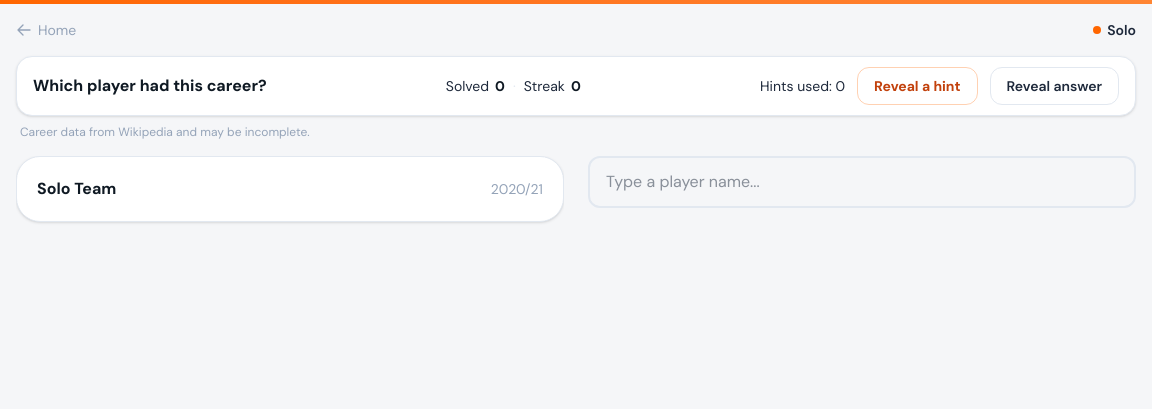
Scenario: CareerQuizBoard multiplayer reveals › reveals solo hints progressively and stops at the hidden-letter cap
Expected: the text "Hints used: 0" is shown, [760,76,845,96]
Click the button "Reveal a hint": x=917, y=86 [857,67,978,105]
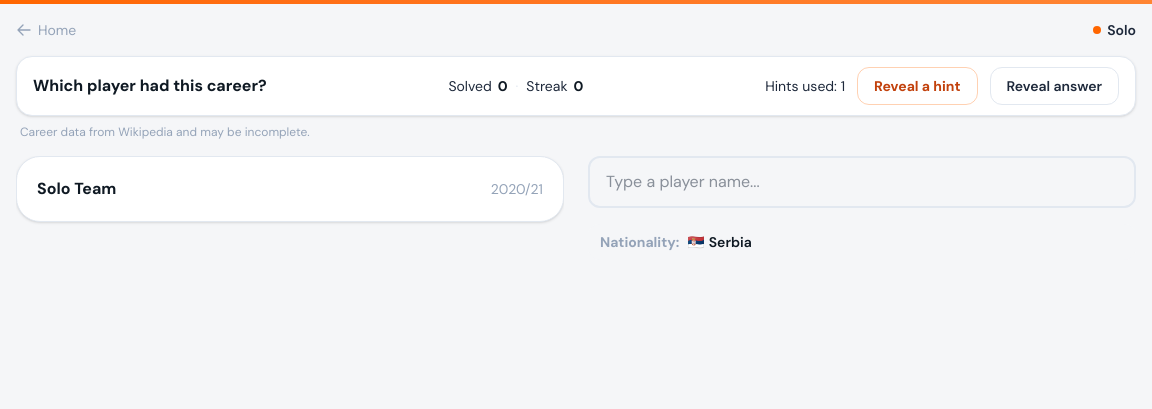
Now the text "Serbia" is shown, box [709,232,752,252]
Now the text "Hints used: 1" is shown, box [765,76,845,96]
Click the button "Reveal a hint": x=917, y=86 [857,67,978,105]
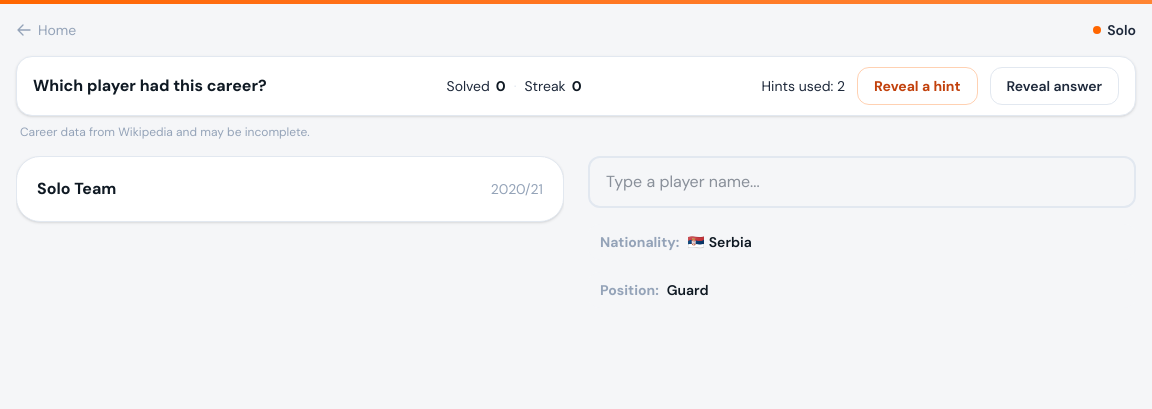
Now the text "Guard" is shown, box [667,280,708,300]
Now the text "Hints used: 2" is shown, box [762,76,845,96]
Click the button "Reveal a hint": x=917, y=86 [857,67,978,105]
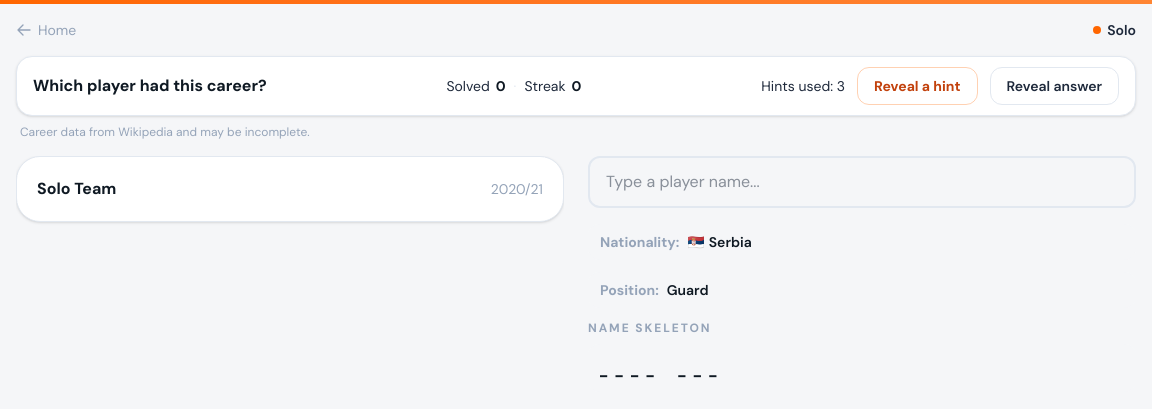
Now the element with test id "career-hint-masked-name" reads "_ _ _ _ _ _ _", box [588,344,1136,392]
Now the text "Hints used: 3" is shown, box [761,76,845,96]
Click the button "Reveal a hint": x=917, y=86 [857,67,978,105]
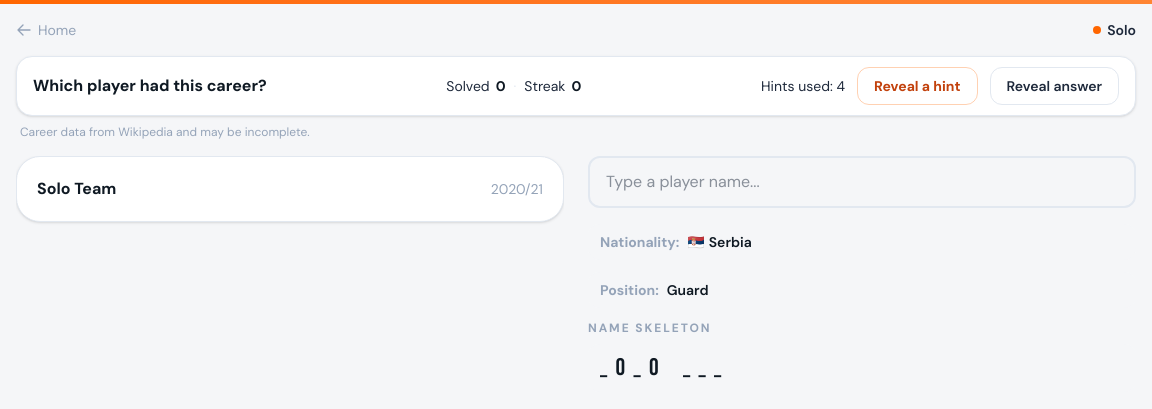
Now the element with test id "career-hint-masked-name" reads "_ O _ O _ _ _", box [588,344,1136,392]
Now the text "Hints used: 4" is shown, box [761,76,845,96]
Click the button "Reveal a hint": x=917, y=86 [857,67,978,105]
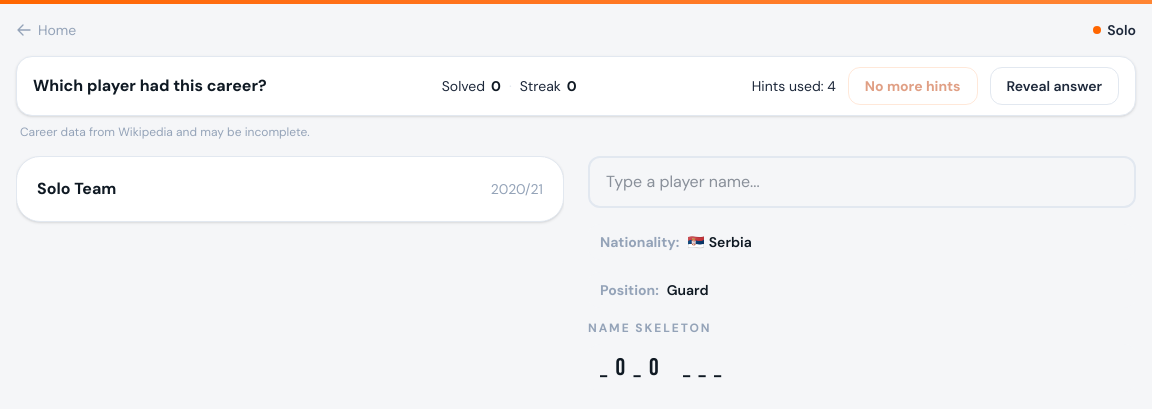
Now the text "Hints used: 4" is shown, box [752,76,836,96]
Now the button named "Reveal a hint" reads "No more hints", box [848,67,978,105]
Now the button named "Reveal a hint" is disabled, box [848,67,978,105]
